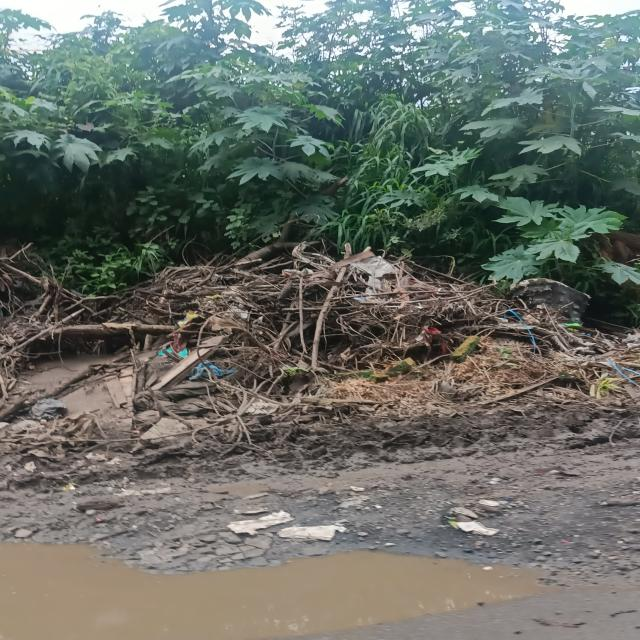garbage: (2, 248, 640, 466)
